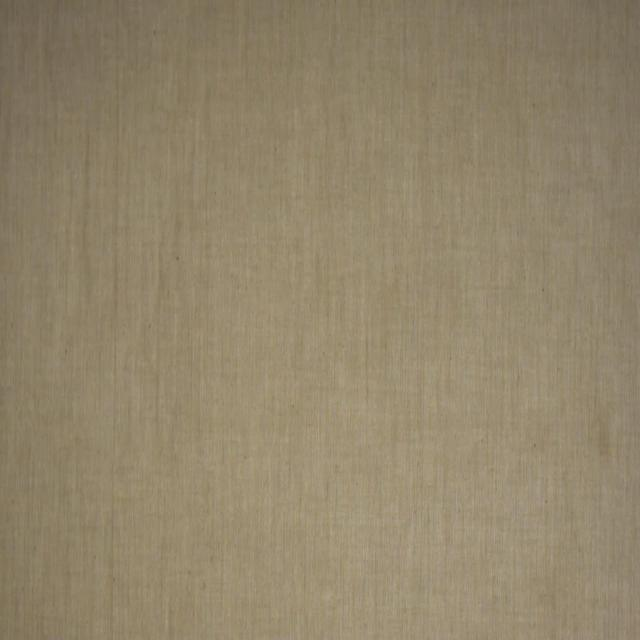dirty: (598, 419, 612, 461)
